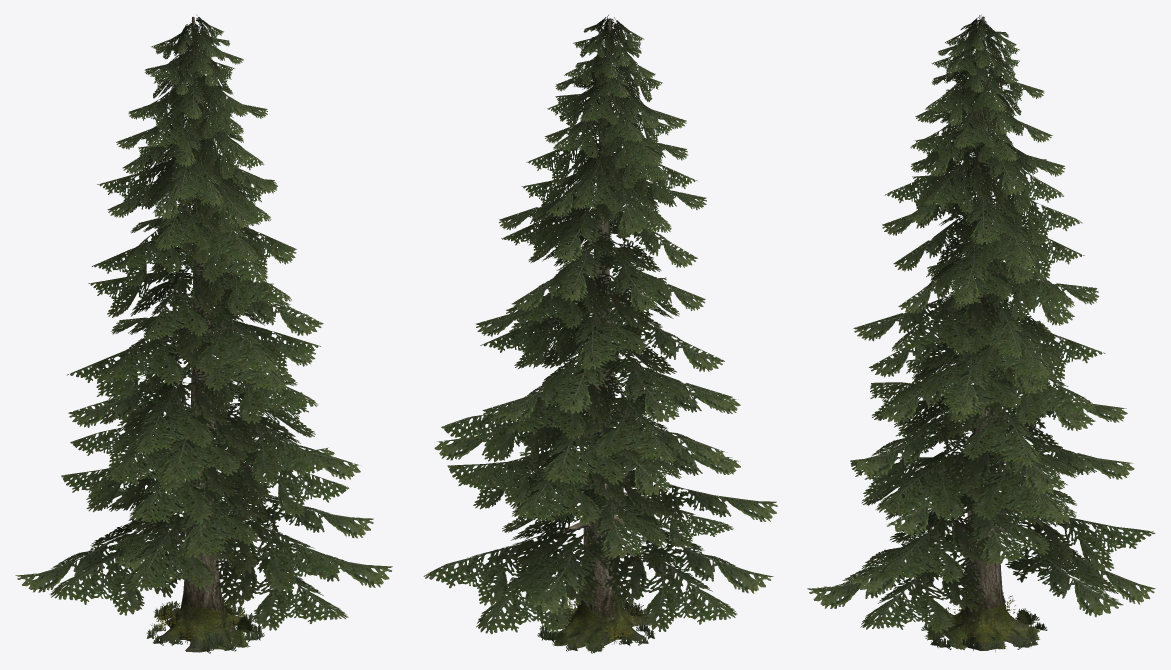
Rendered from tree_pine04_efficient.glb.
3 renders of one model, left to right at view 1: azimuth 30°, elevation 25°; view 2: azimuth 150°, elevation 25°; view 3: azimuth 270°, elevation 25°, orthographic.
Parts seen in each view (by area): view 1: 0_Arbre01; view 2: 0_Arbre01; view 3: 0_Arbre01.
Part boxes in pixels (bbox=[...]): 0_Arbre01: bbox=[15, 14, 392, 653]; 0_Arbre01: bbox=[423, 15, 777, 653]; 0_Arbre01: bbox=[807, 14, 1155, 652].
Size of the model in its own units: 7.6 by 14.95 by 7.75.
Materials: 1 (1 with a texture image).
